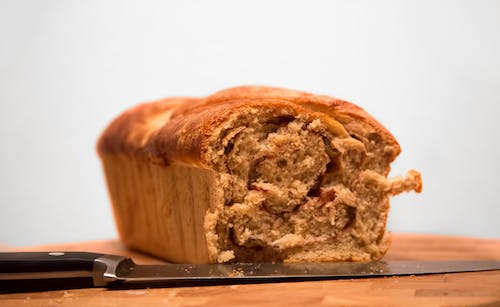knife: (0, 249, 500, 297)
